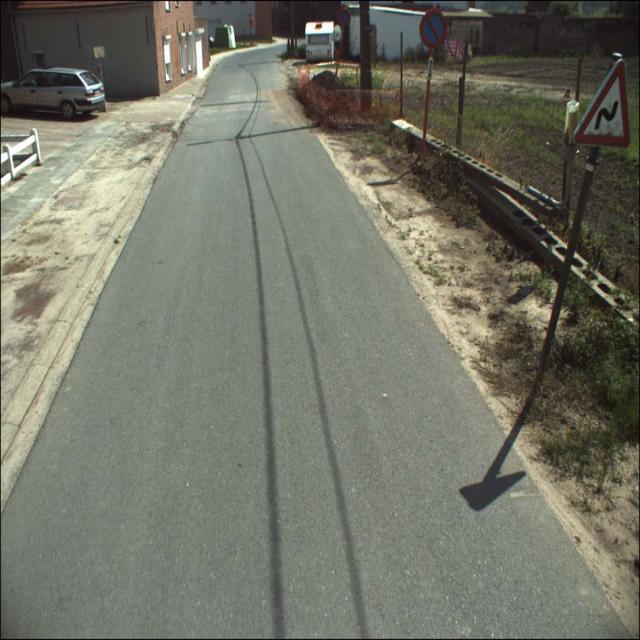parkyasak: (419, 10, 448, 49)
